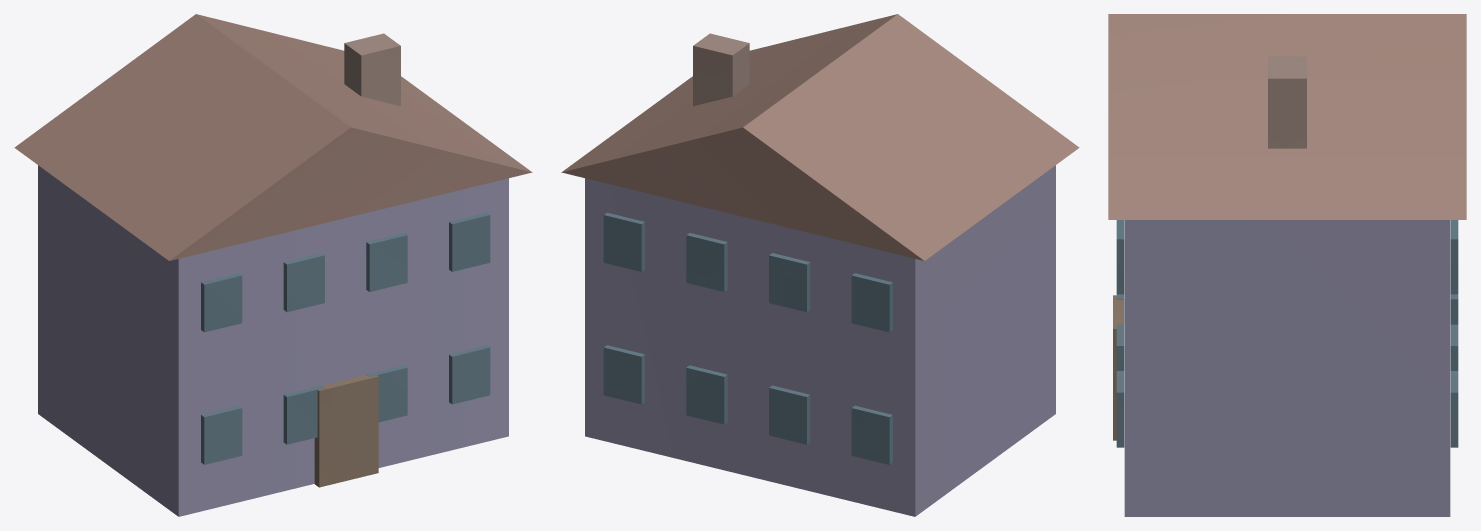
The model's file is chalet-04.glb.
The picture shows the model from 3 angles, left to right: view 1: azimuth 30°, elevation 25°; view 2: azimuth 150°, elevation 25°; view 3: azimuth 270°, elevation 25°; orthographic projection. The views are drawn at different scales.
Visible parts, largest first — view 1: world; view 2: world; view 3: world.
Part boxes in pixels (<box>): world: <box>14,14,532,516</box>; world: <box>561,14,1079,516</box>; world: <box>1108,14,1466,516</box>.
Bounding box in the file's own units: 1.58 × 1.48 × 1.16.
